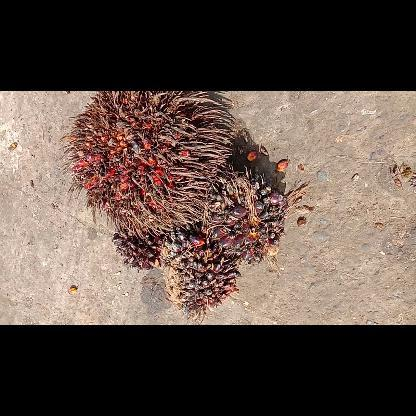TBS abnormal: (202, 169, 288, 268), (159, 230, 241, 318), (108, 228, 162, 270)
Terlalu masak: (61, 92, 238, 236)
